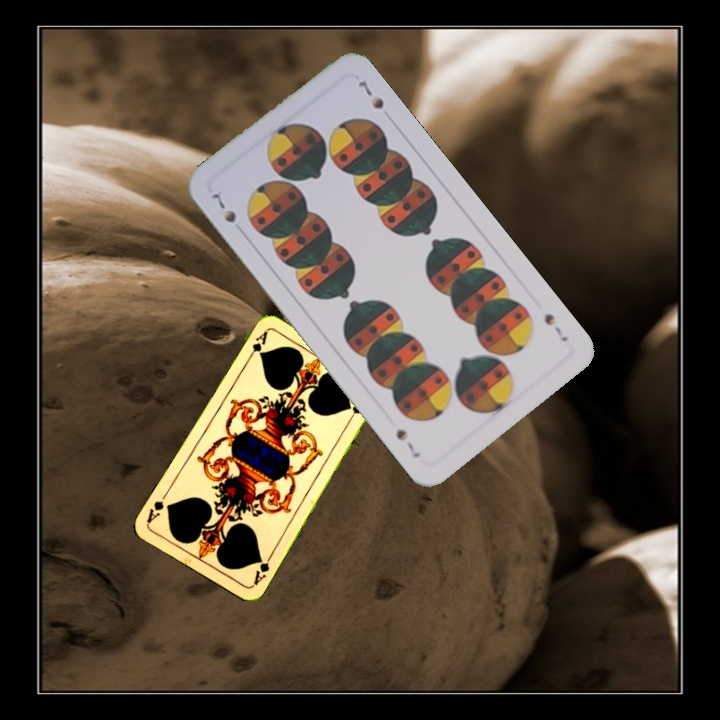GA: (243, 327, 270, 364), (249, 551, 275, 588)
S7: (207, 189, 239, 226), (540, 309, 571, 345)
